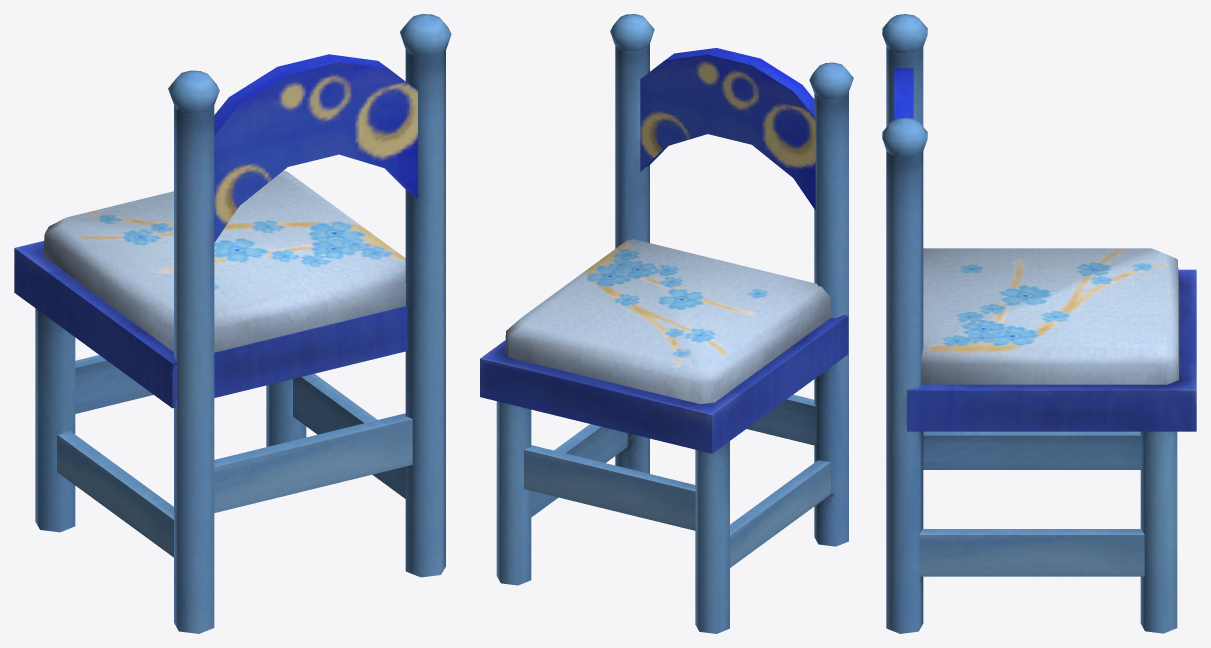
File: furni_0200510.FBX
The picture shows the model from 3 angles, left to right: view 1: azimuth 30°, elevation 25°; view 2: azimuth 150°, elevation 25°; view 3: azimuth 270°, elevation 25°; orthographic projection. The views are drawn at different scales.
Visible parts, largest first — view 1: furni_0200510; view 2: furni_0200510; view 3: furni_0200510.
Boxes of the visible parts, x1,y1,x2,y2 form: furni_0200510: [14, 14, 451, 633]; furni_0200510: [480, 14, 853, 633]; furni_0200510: [882, 14, 1196, 633].
Bounding box in the file's own units: 43.21 × 82.42 × 46.35.
Materials: 1 (1 with a texture image).
